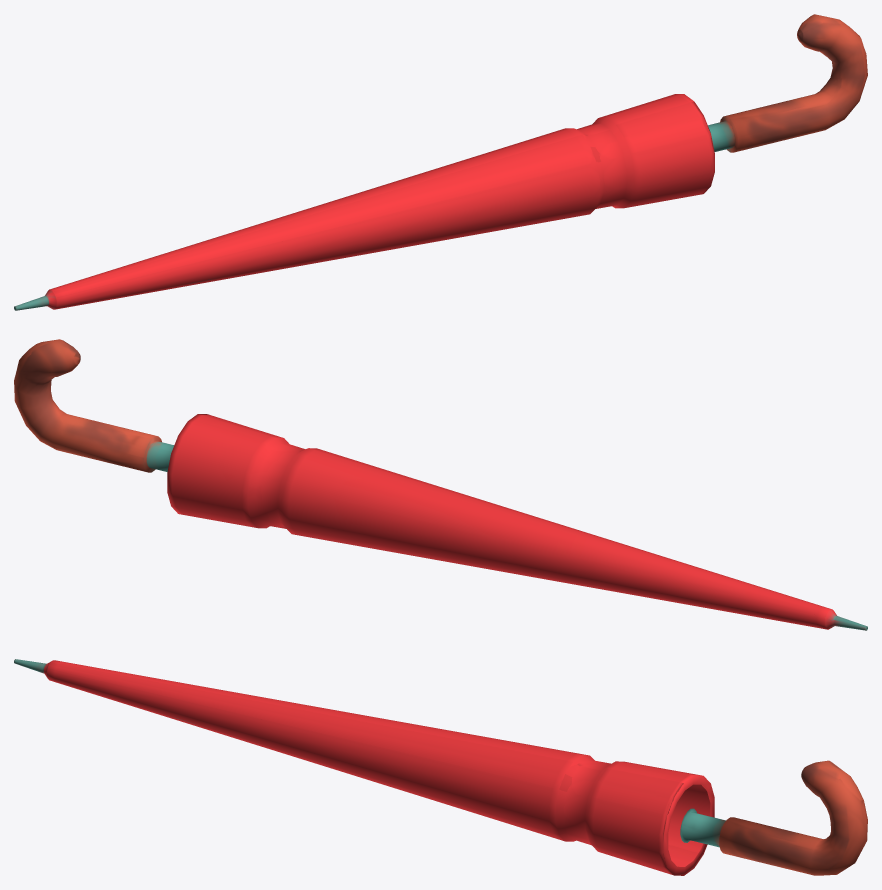
File: Umbrella.fbx
The picture shows the model from 3 angles, top to bottom: view 1: azimuth 30°, elevation 25°; view 2: azimuth 150°, elevation 25°; view 3: azimuth 330°, elevation 25°; orthographic projection.
Parts seen in each view (by area): view 1: Cylinder; view 2: Cylinder; view 3: Cylinder.
Part boxes in pixels (x1=…): Cylinder: x1=14, y1=14, x2=867, y2=310; Cylinder: x1=14, y1=339, x2=867, y2=630; Cylinder: x1=14, y1=659, x2=867, y2=875.
Bounding box in the file's own units: 538 × 84.66 × 56.11.
Materials: 1 (1 with a texture image).
